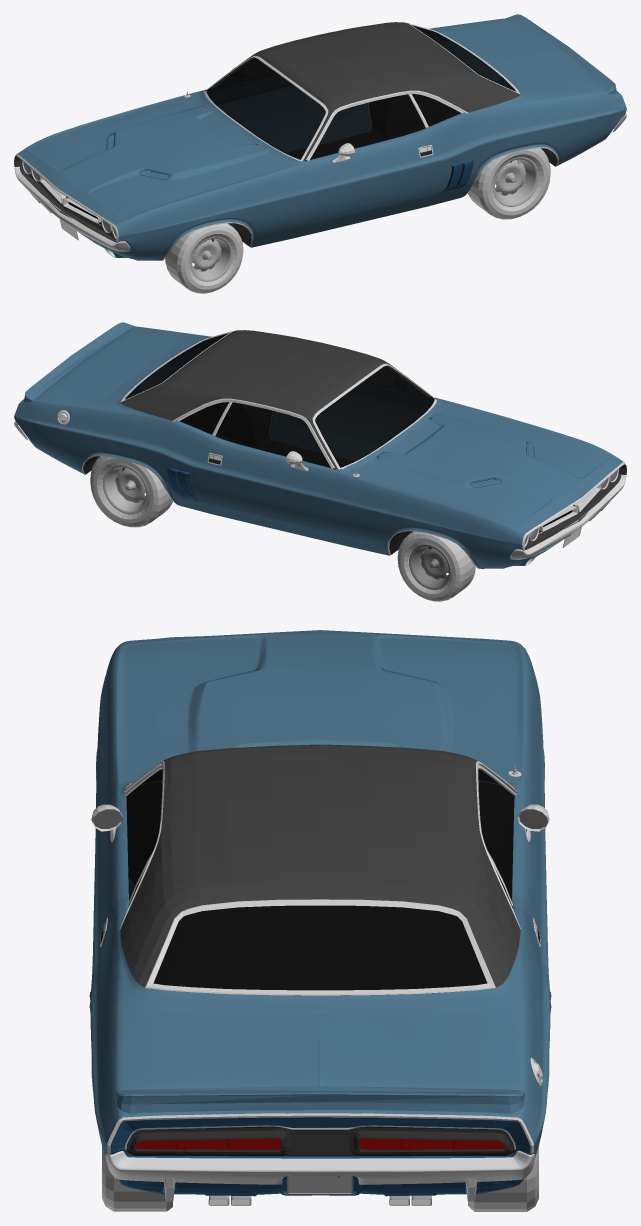
The model's file is DodgeChallenger.FBX.
The picture shows the model from 3 angles, top to bottom: view 1: azimuth 30°, elevation 25°; view 2: azimuth 150°, elevation 25°; view 3: azimuth 270°, elevation 25°; orthographic projection. The views are drawn at different scales.
Parts seen in each view (by area): view 1: Component#, CHALLENG13, CHALLENG10, CHALLENG46, CHALLENGE9, Piso_001, tire_004, tire_004.tire_003, CHALLENGE3.CHALLENG39, CHALLENGER, CHALLENGE3, CHALLENGE7 (+3 smaller); view 2: Component#, CHALLENG13, CHALLENG10, CHALLENG46, CHALLENGE8, Piso_001, tire_004.tire_001, tire_004.tire_002, CHALLENGE3.CHALLENG43, CHALLENGER, CHALLENGE3.CHALLENG55, CHALLENGE7 (+3 smaller); view 3: Component#, CHALLENG13, Piso_001, CHALLENGE7, CHALLENG46, CHALLENGER, Component2, CHALLENG22, Group_001, CHALLENGE9, CHALLENGE8, tire_004.tire_003 (+6 smaller).
Boxes of the visible parts, x1=… form: Component#: x1=17, y1=18, x2=626, y2=260; CHALLENG13: x1=207, y1=22, x2=520, y2=161; CHALLENG10: x1=206, y1=57, x2=325, y2=159; CHALLENG46: x1=14, y1=23, x2=626, y2=260; CHALLENGE9: x1=310, y1=94, x2=425, y2=159; Piso_001: x1=136, y1=94, x2=557, y2=260; tire_004: x1=165, y1=223, x2=243, y2=293; tire_004.tire_003: x1=468, y1=148, x2=550, y2=219; CHALLENGE3.CHALLENG39: x1=493, y1=157, x2=538, y2=206; CHALLENGER: x1=505, y1=14, x2=617, y2=94; CHALLENGE3: x1=190, y1=236, x2=232, y2=281; CHALLENGE7: x1=412, y1=25, x2=515, y2=91; Component#: x1=14, y1=326, x2=623, y2=568; CHALLENG13: x1=120, y1=330, x2=435, y2=469; CHALLENG10: x1=315, y1=365, x2=434, y2=467; CHALLENG46: x1=14, y1=331, x2=626, y2=568; CHALLENGE8: x1=215, y1=402, x2=330, y2=467; Piso_001: x1=83, y1=402, x2=504, y2=568; tire_004.tire_001: x1=397, y1=531, x2=475, y2=601; tire_004.tire_002: x1=90, y1=456, x2=173, y2=527; CHALLENGE3.CHALLENG43: x1=102, y1=465, x2=147, y2=514; CHALLENGER: x1=23, y1=322, x2=135, y2=402; CHALLENGE3.CHALLENG55: x1=409, y1=544, x2=450, y2=589; CHALLENGE7: x1=125, y1=333, x2=229, y2=399; Component#: x1=90, y1=630, x2=550, y2=1183; CHALLENG13: x1=120, y1=744, x2=520, y2=987; Piso_001: x1=91, y1=756, x2=549, y2=1082; CHALLENGE7: x1=153, y1=905, x2=487, y2=990; CHALLENG46: x1=91, y1=630, x2=549, y2=1201; CHALLENGER: x1=115, y1=1086, x2=524, y2=1113; Component2: x1=125, y1=1126, x2=515, y2=1156; CHALLENG22: x1=110, y1=1117, x2=530, y2=1158; Group_001: x1=119, y1=1179, x2=521, y2=1196; CHALLENGE9: x1=126, y1=769, x2=162, y2=900; CHALLENGE8: x1=478, y1=769, x2=514, y2=900; tire_004.tire_003: x1=102, y1=1146, x2=172, y2=1211.
Bounding box in the file's own units: 707 × 197 × 273.
